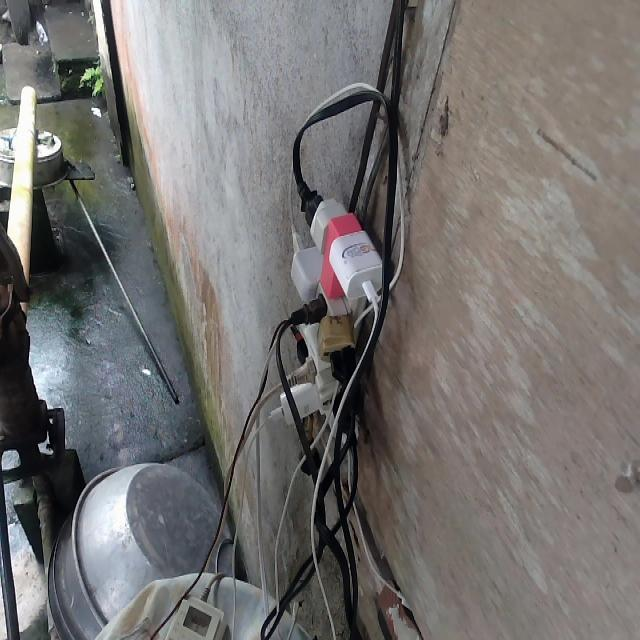-: (269, 184, 384, 435)
